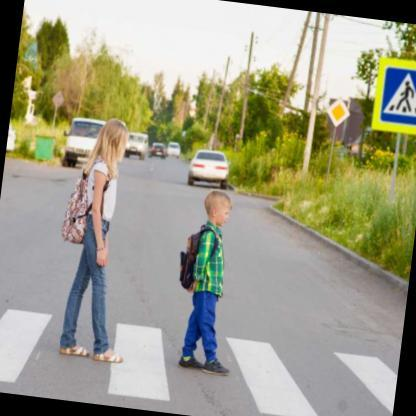obstructed_road_sign: (372, 57, 416, 135)
road_sign: (326, 98, 351, 128)
